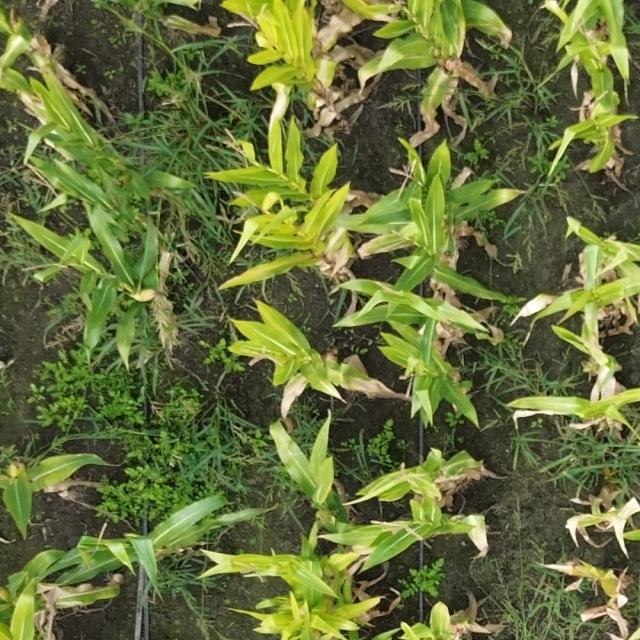northern-leaf-blight: (334, 372, 412, 404), (54, 580, 134, 610), (351, 235, 412, 259), (413, 75, 449, 110), (273, 87, 299, 128)
